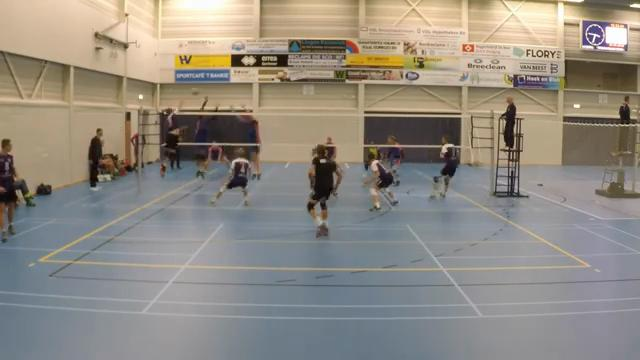attacco: (154, 97, 191, 173)
muro: (188, 92, 219, 179), (231, 101, 263, 184)
